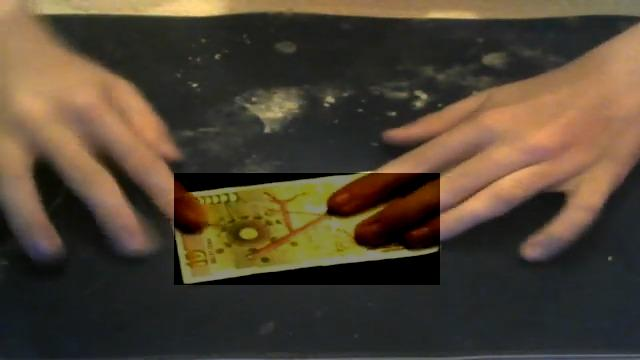10leva: (174, 173, 440, 285)
